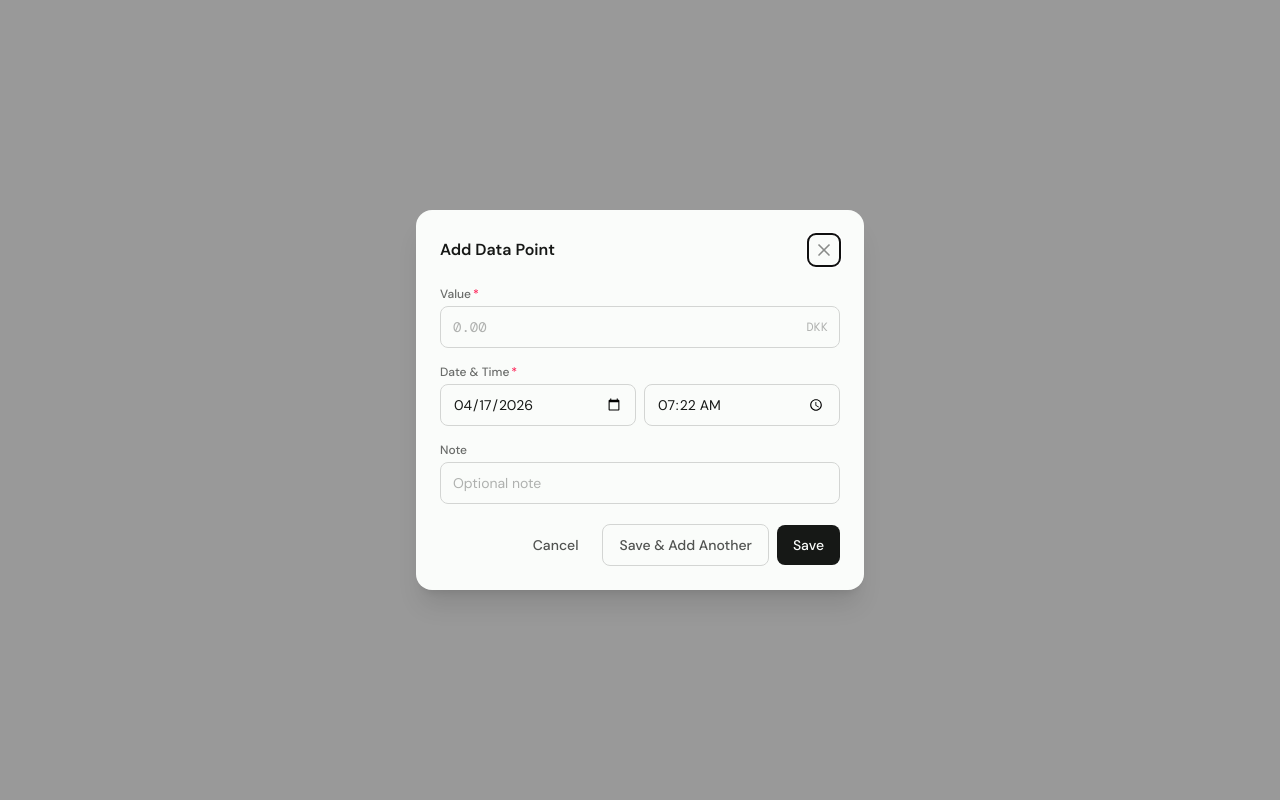
Scenario: DataPointDialog › Validation › clears value error when user types
Click the button "Save": (808, 545) [777,525,840,565]
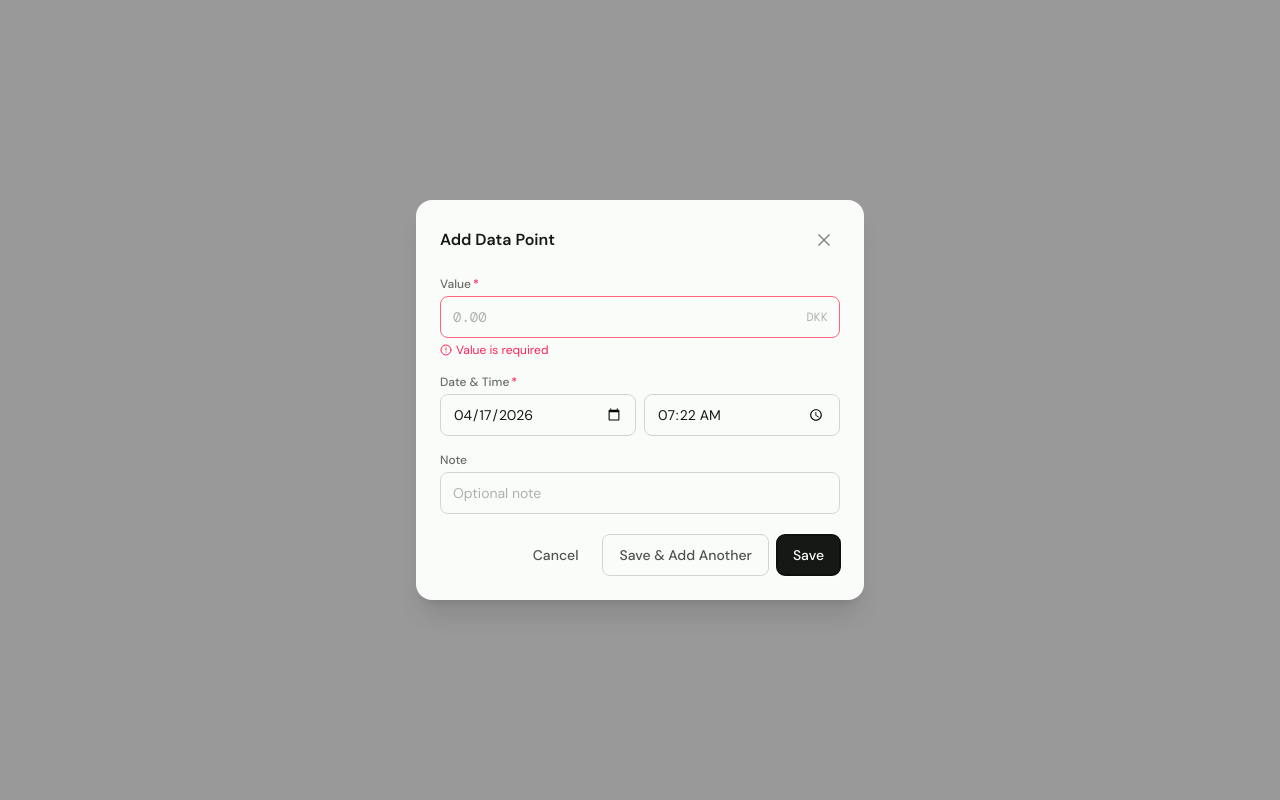
Now the text "Value is required" is shown, box [440,342,548,358]
In the number field with placeholder "0.00": (640, 317) [440,296,840,338], type "5"
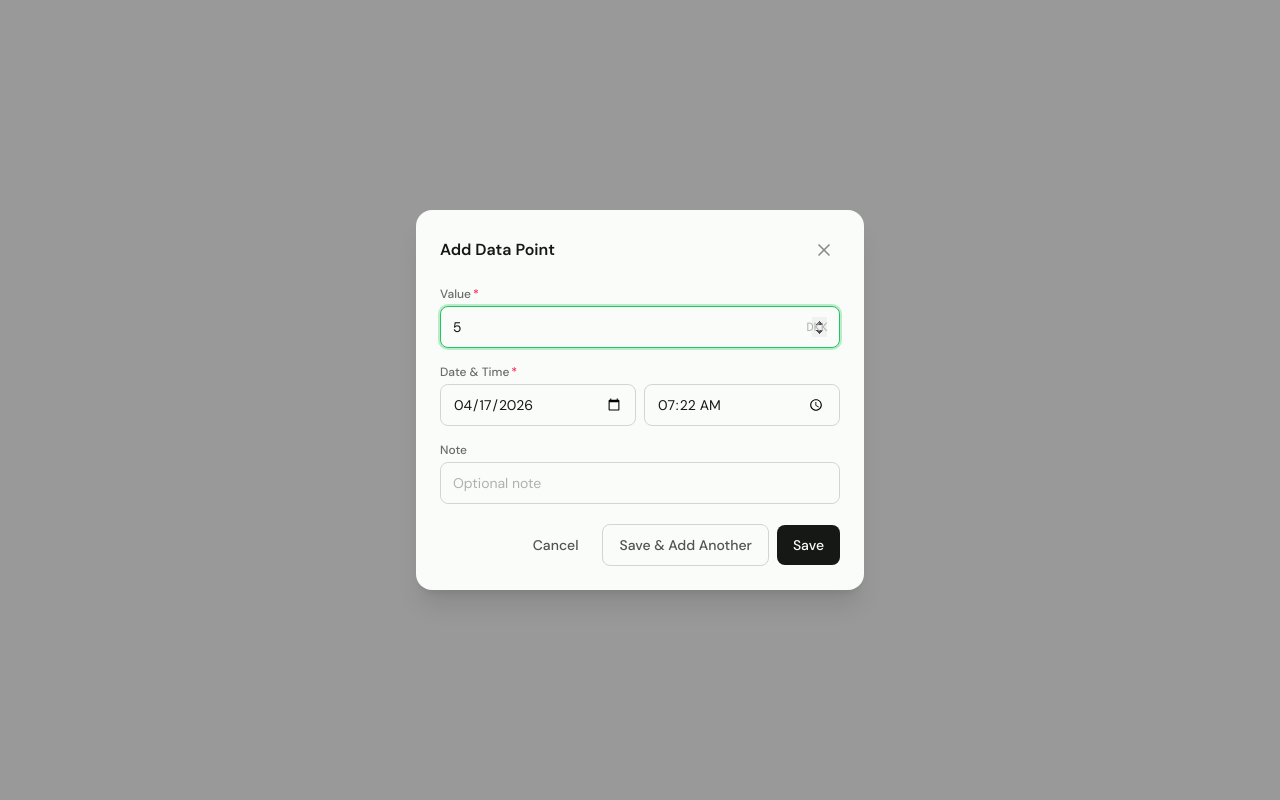
Now the text "Value is required" is gone
